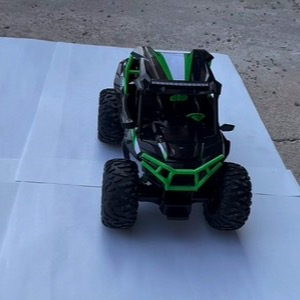polaris: (97, 46, 255, 235)
